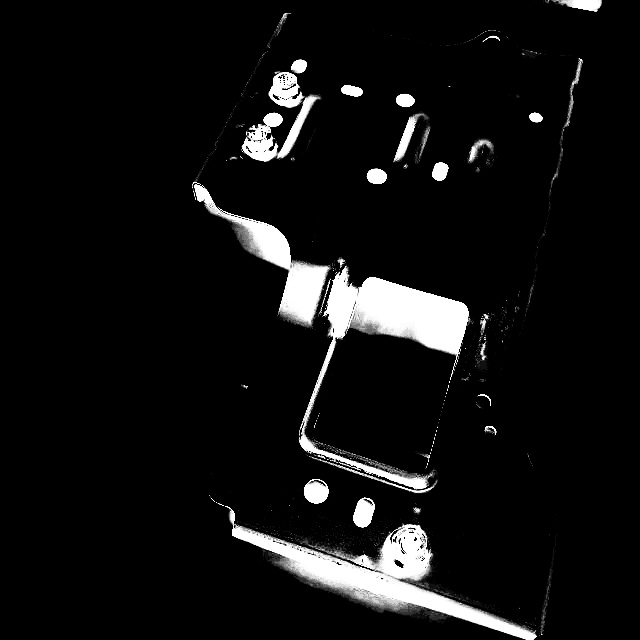dog: (381, 521, 431, 574), (266, 69, 305, 109), (240, 121, 278, 162)
